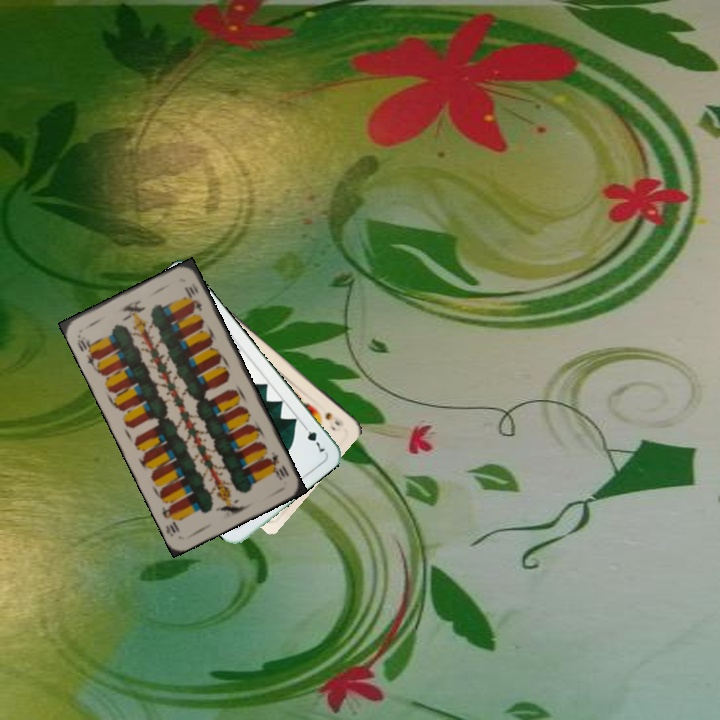E10: (73, 330, 102, 369), (263, 448, 292, 483)
G7: (298, 420, 328, 456)
S10: (320, 408, 347, 429)
